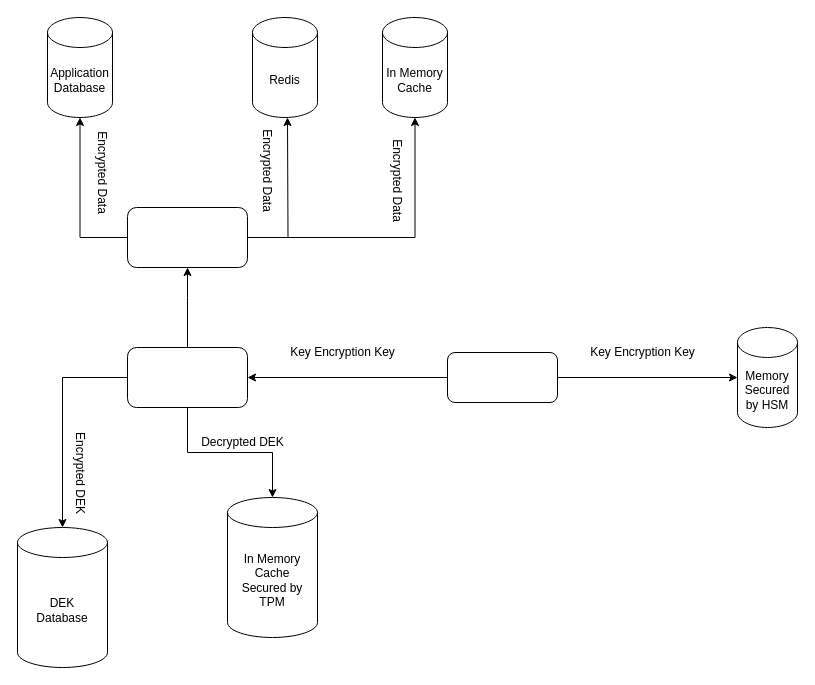
Some shapes in this 815 by 685 pixel diagram are drawn without their labels. Here are the shapes that lost their labels. From the top down, the centre of each, then its label:
the point at 187,237: Application
the point at 187,377: Encryption Service
the point at 502,377: KMS
